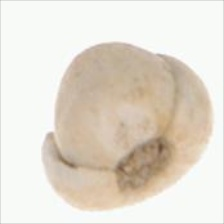L4: (41, 42, 213, 211)
